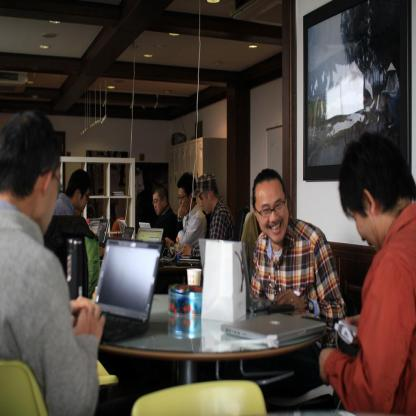board: (90, 233, 165, 345), (220, 311, 326, 349), (162, 236, 200, 262), (186, 263, 203, 291), (99, 219, 107, 243), (122, 226, 134, 241), (117, 220, 128, 236), (139, 222, 151, 228)
